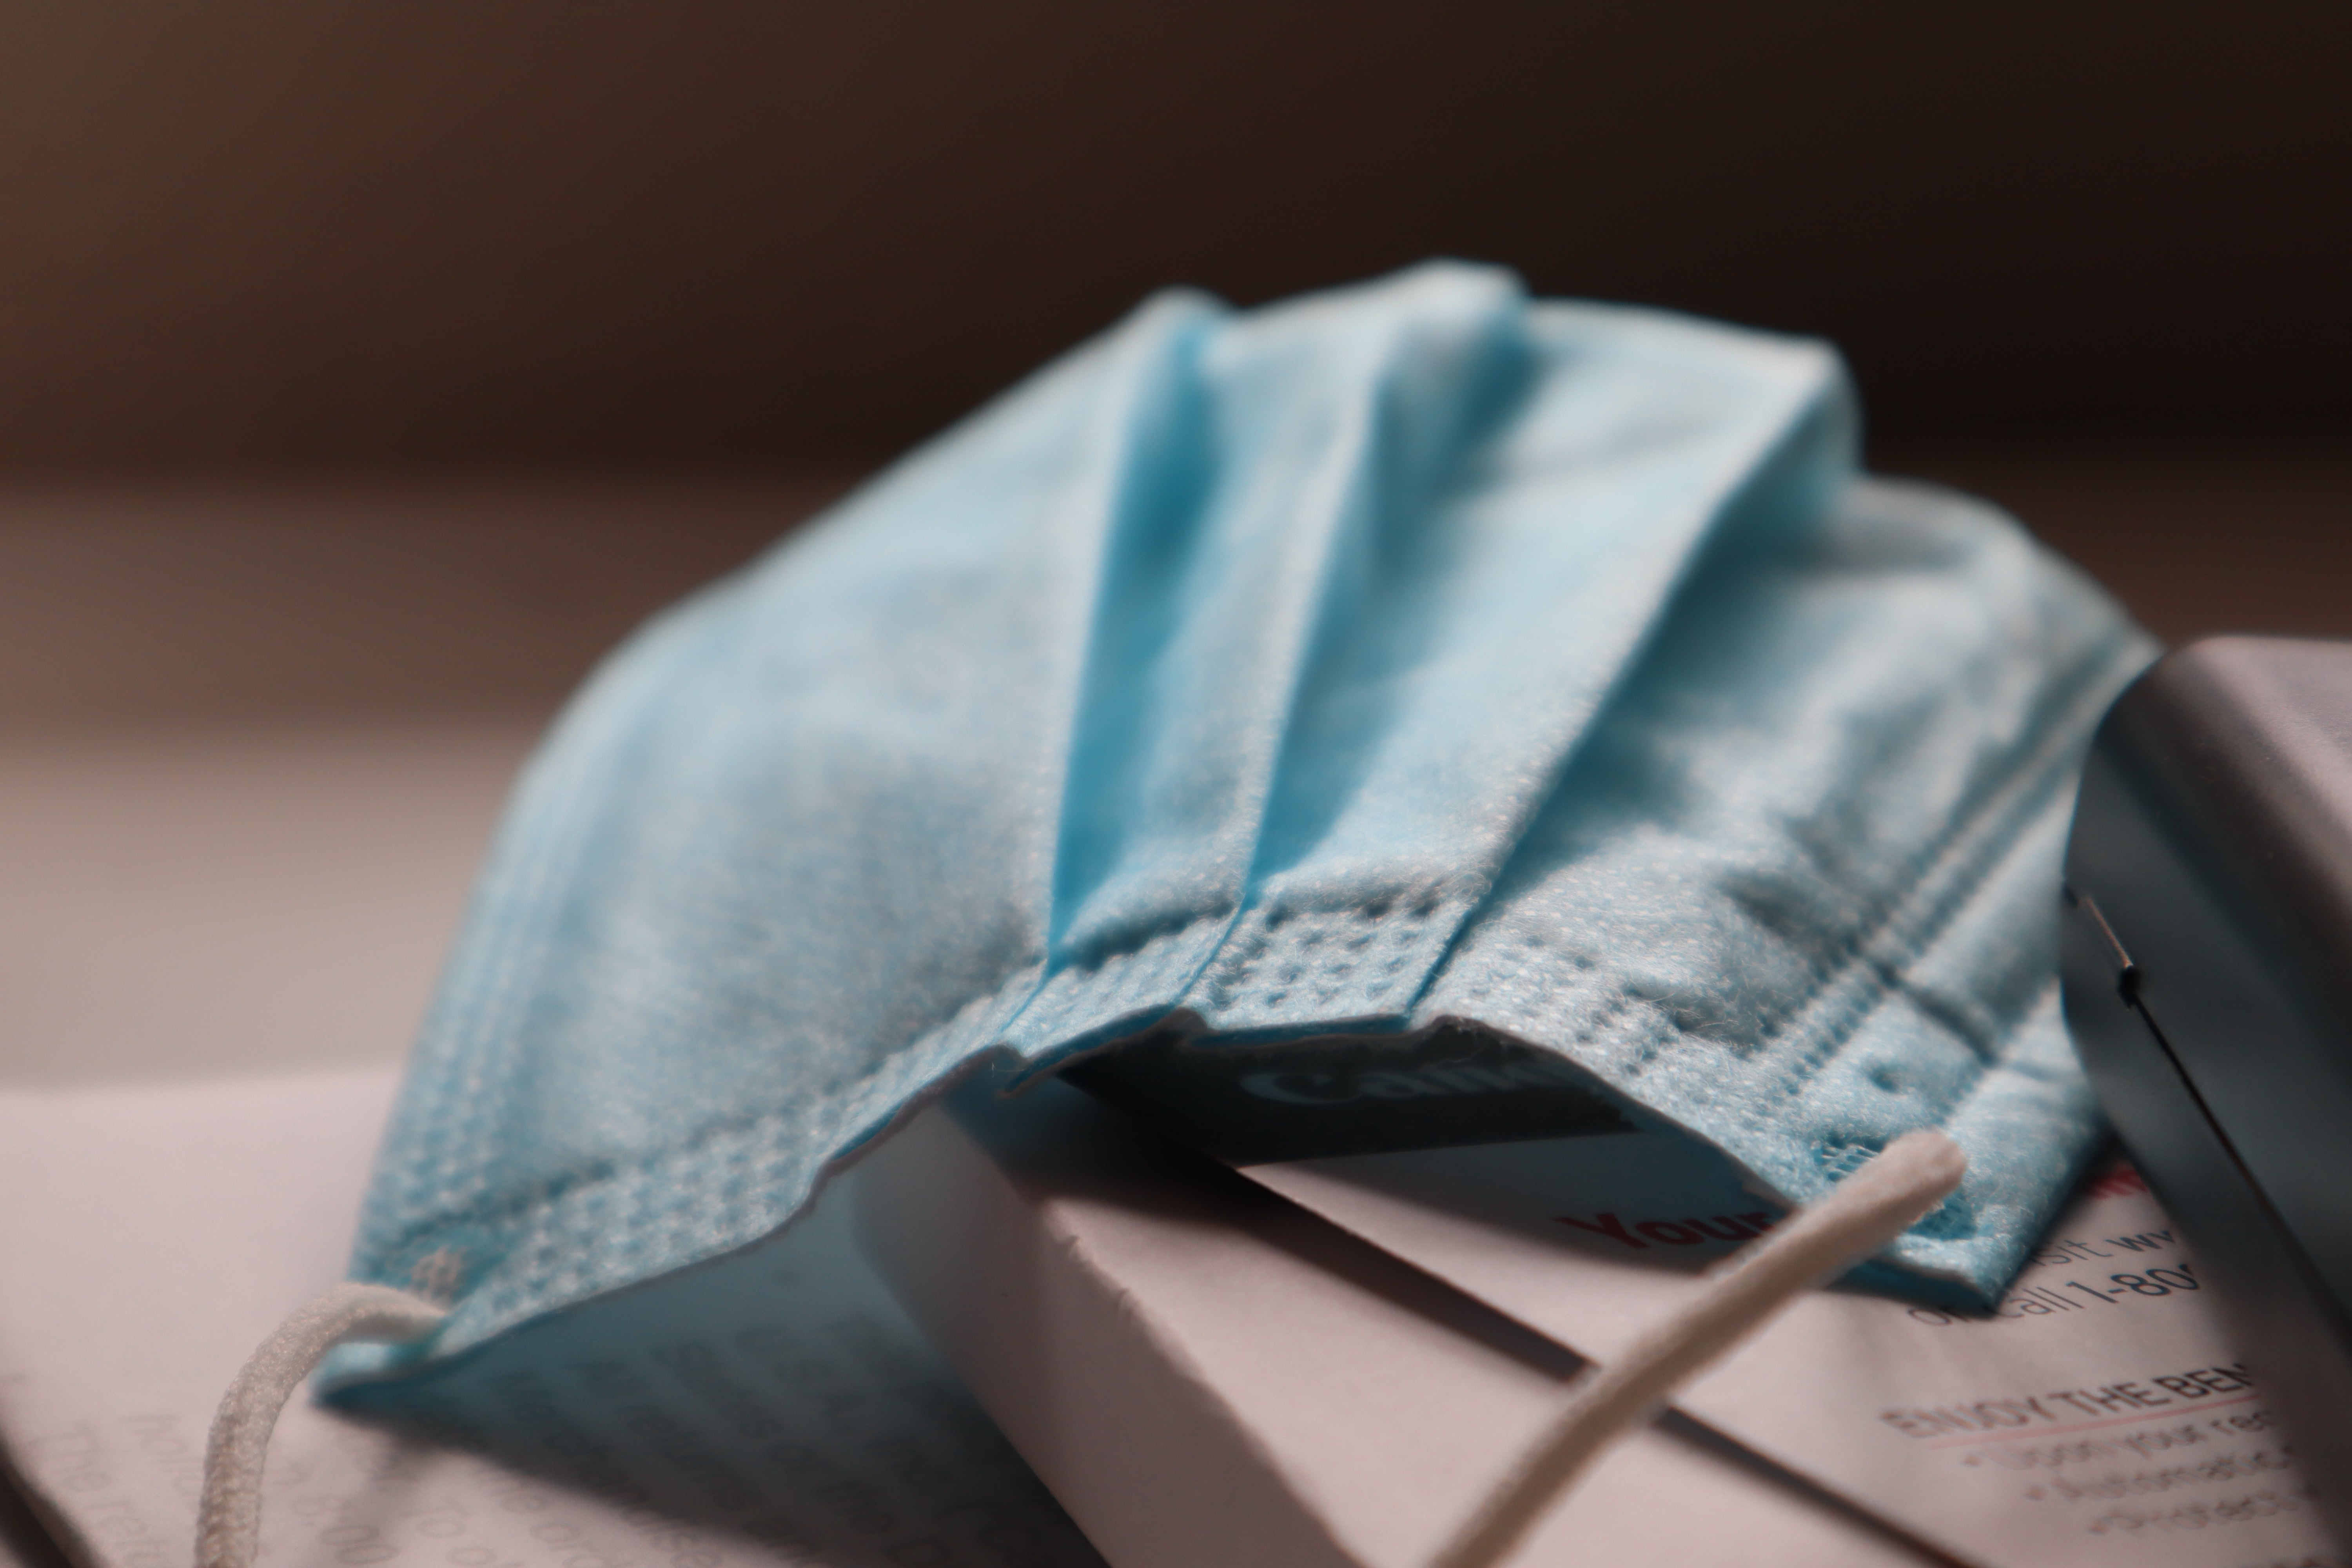mask: (187, 243, 2180, 1568)
